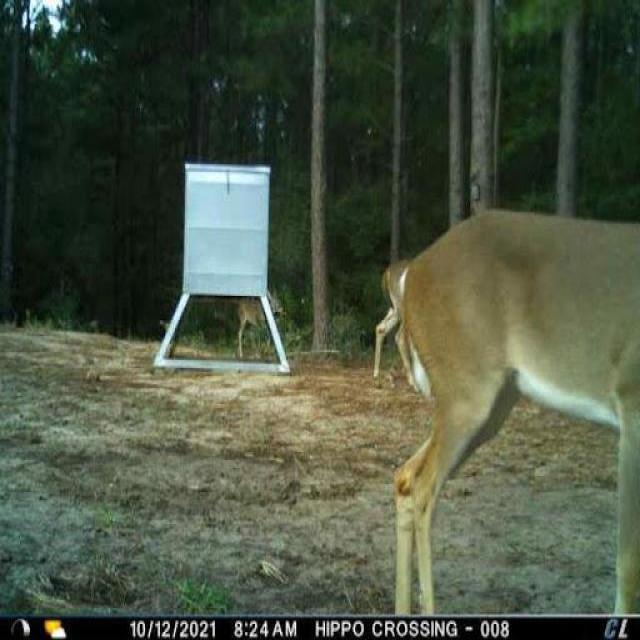deer: (390, 198, 640, 618), (374, 247, 426, 398), (238, 283, 288, 354)
